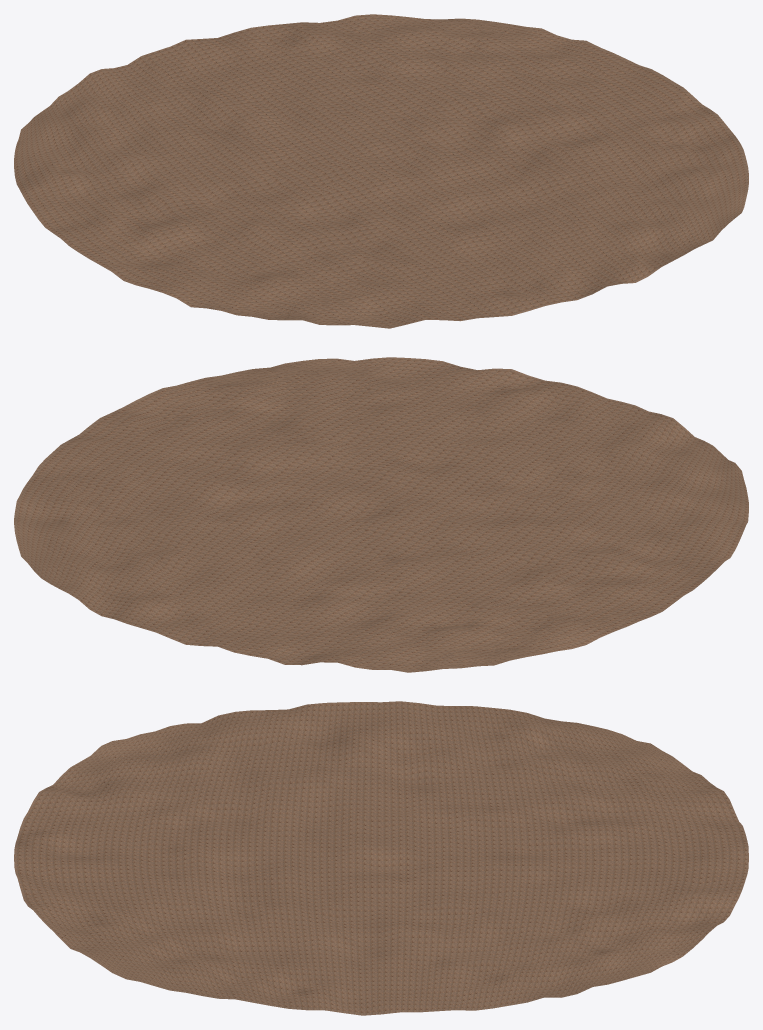
The model's file is TestStage.gltf.
The picture shows the model from 3 angles, top to bottom: view 1: azimuth 30°, elevation 25°; view 2: azimuth 150°, elevation 25°; view 3: azimuth 270°, elevation 25°; orthographic projection. The views are drawn at different scales.
Visible parts, largest first — view 1: Plane; view 2: Plane; view 3: Plane.
Part boxes in pixels (box(x1,y1,x2,y2)): Plane: box(14, 14, 748, 328); Plane: box(14, 357, 748, 672); Plane: box(14, 701, 748, 1015).
Size of the model in its own units: 327 by 5 by 327.
Materials: 1 (1 with a texture image).
